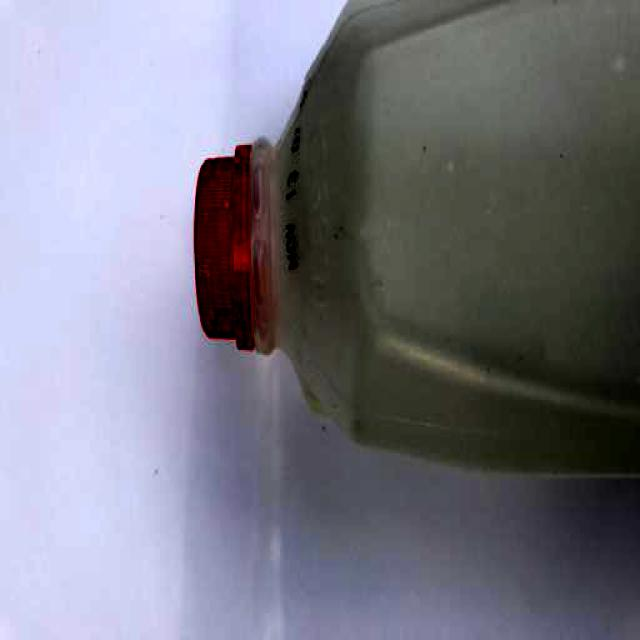Plastic: (188, 0, 640, 486)
